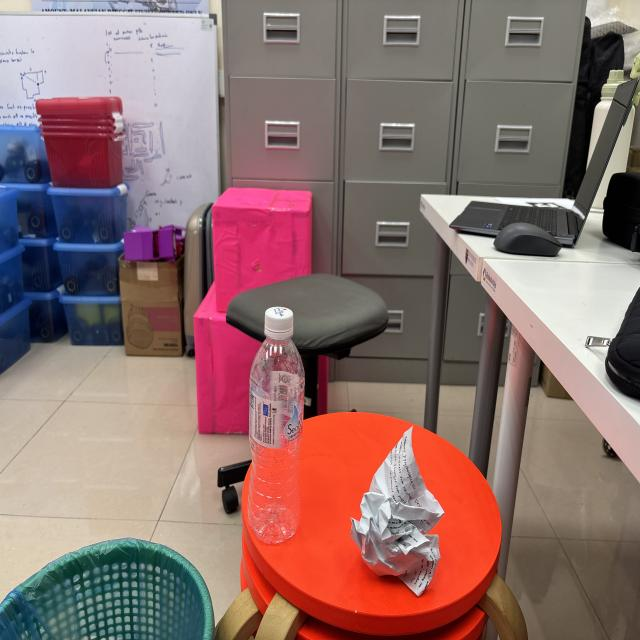crumpled_paper: (348, 420, 448, 606)
plastic_bottle: (245, 298, 305, 554)
